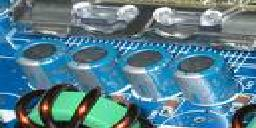Electrolytic-Capacitor: (171, 48, 242, 107), (68, 41, 121, 97), (123, 44, 172, 102), (16, 39, 67, 92)
